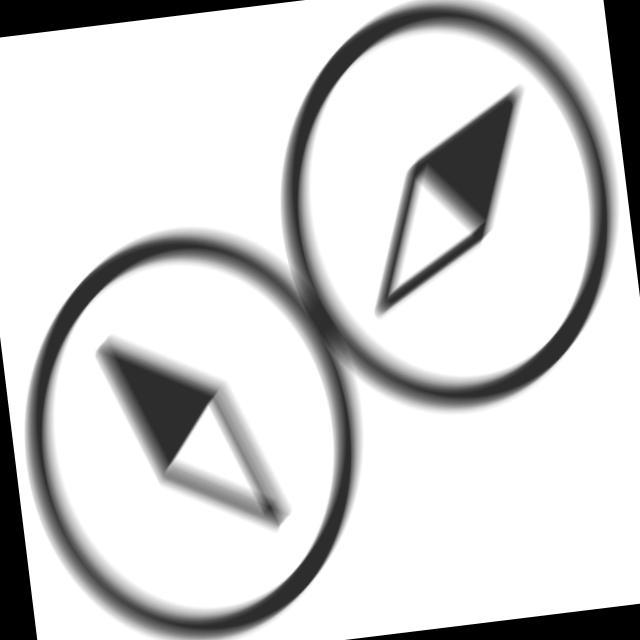compass: (246, 1, 640, 442), (1, 204, 388, 640)
